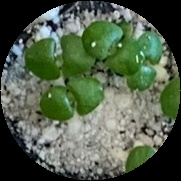Basil: (84, 22, 140, 75), (39, 76, 102, 121), (24, 38, 90, 78), (124, 33, 164, 90)
